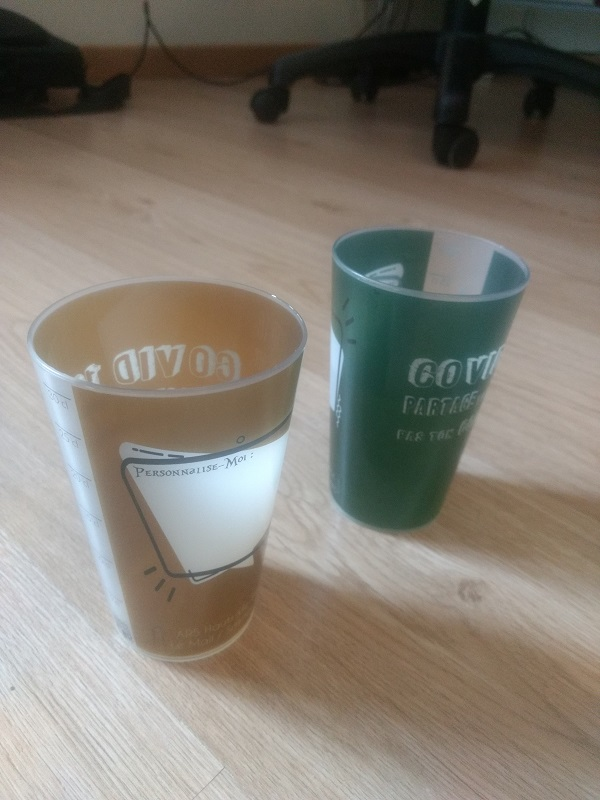ecocup: (27, 278, 310, 661), (325, 222, 532, 538)
